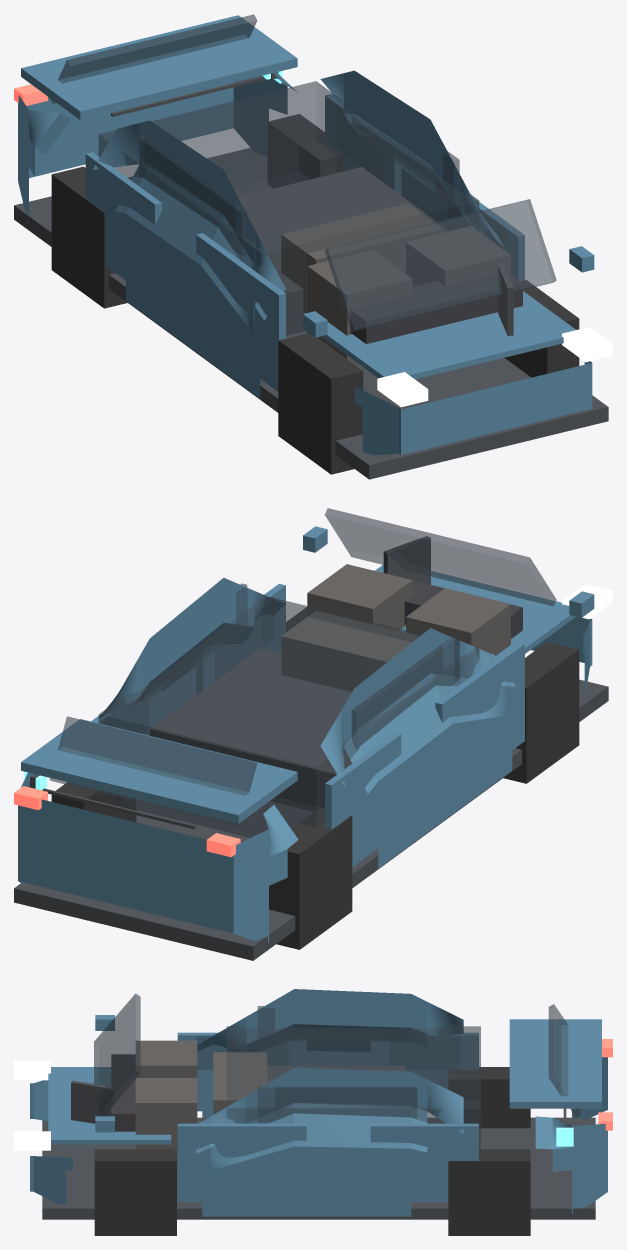
Rendered from compact_sedan.glb.
3 views of the same model, one above another, from view 1: azimuth 30°, elevation 25°; view 2: azimuth 150°, elevation 25°; view 3: azimuth 270°, elevation 25° (orthographic). The views are drawn at different scales.
Parts seen in each view (by area): view 1: body_mesh, cab_mesh, windshield, trunk_mesh, trim_mesh, frunk_mesh, tire_fr, wheel_well_mesh, seat_rear, tire_rr, dash, seat_r (+14 smaller); view 2: body_mesh, cab_mesh, wheel_well_mesh, trunk_mesh, trim_mesh, windshield, tire_rr, rear_glass, seat_rear, tire_fr, seat_l, door_rr_mesh (+14 smaller); view 3: body_mesh, cab_mesh, trim_mesh, trunk_mesh, tire_fl, tire_rl, window_fixed_l, door_rl_mesh, door_fl_mesh, frunk_mesh, windshield, seat_l (+14 smaller).
Boxes of the visible parts, <box> form: body_mesh: <box>18,70,592,455</box>; cab_mesh: <box>98,81,479,333</box>; windshield: <box>325,199,556,331</box>; trunk_mesh: <box>21,15,297,119</box>; trim_mesh: <box>14,148,608,479</box>; frunk_mesh: <box>321,291,575,379</box>; tire_fr: <box>278,333,363,474</box>; wheel_well_mesh: <box>238,167,448,335</box>; seat_rear: <box>281,203,441,313</box>; tire_rr: <box>51,166,127,308</box>; dash: <box>350,272,522,344</box>; seat_r: <box>307,250,412,364</box>; body_mesh: <box>18,578,592,942</box>; cab_mesh: <box>98,596,479,837</box>; wheel_well_mesh: <box>150,648,351,811</box>; trunk_mesh: <box>21,719,297,823</box>; trim_mesh: <box>14,679,608,960</box>; windshield: <box>325,508,556,606</box>; tire_rr: <box>269,808,352,949</box>; rear_glass: <box>49,716,257,826</box>; seat_rear: <box>281,611,419,691</box>; tire_fr: <box>503,641,579,783</box>; seat_l: <box>307,564,412,630</box>; door_rr_mesh: <box>325,733,401,866</box>; body_mesh: <box>30,989,607,1216</box>; cab_mesh: <box>226,1026,480,1155</box>; trim_mesh: <box>42,1117,595,1219</box>; trunk_mesh: <box>509,1019,601,1108</box>; tire_fl: <box>94,1149,176,1235</box>; tire_rl: <box>448,1149,530,1235</box>; window_fixed_l: <box>257,1086,417,1122</box>; door_rl_mesh: <box>370,1123,478,1201</box>; door_fl_mesh: <box>177,1123,306,1201</box>; frunk_mesh: <box>48,1067,171,1144</box>; windshield: <box>94,993,140,1118</box>; seat_l: <box>135,1078,197,1158</box>.
Size of the model in its own units: 2.04 by 1.44 by 4.87.
